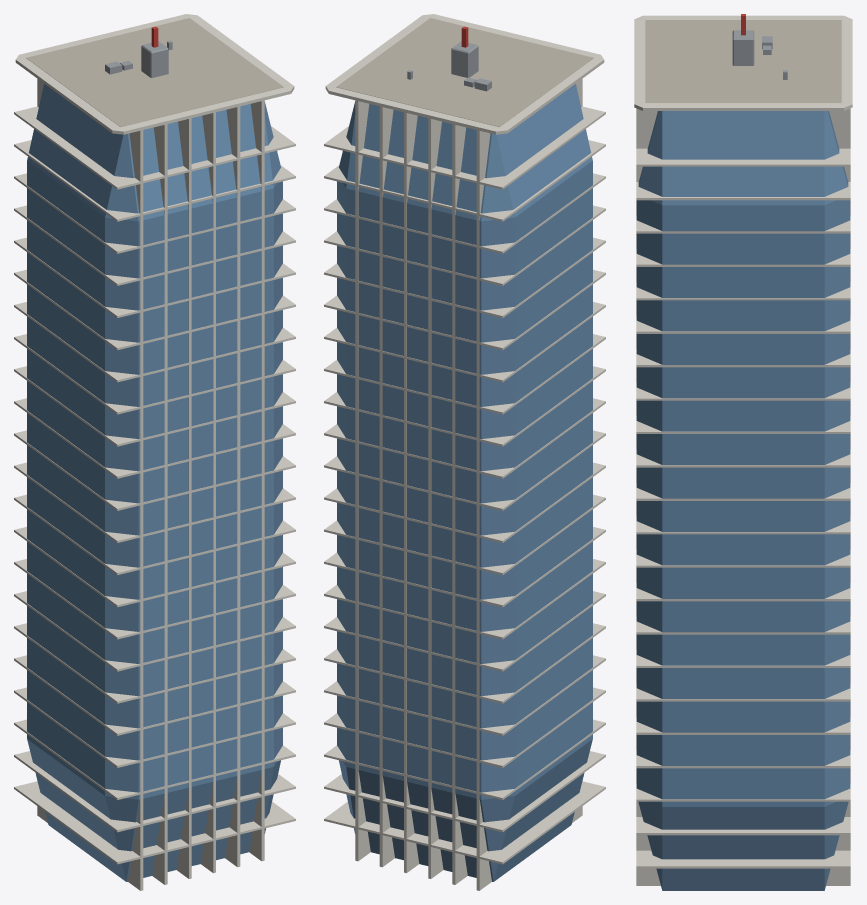
Rendered from tower_grid_h90.glb.
3 views of the same model, side by side, from view 1: azimuth 30°, elevation 25°; view 2: azimuth 150°, elevation 25°; view 3: azimuth 270°, elevation 25° (orthographic). The views are drawn at different scales.
Visible parts, largest first — view 1: glasscore, gridroof, gridlip, mullv, mullv.001, mullv.004, mullv.005, mullv.002, mullh, mullv.003, mullh.021, mullh.001 (+20 smaller); view 2: glasscore, gridroof, gridlip, mullv, mullv.004, mullv.001, mullv.005, mullv.002, mullh, mullv.003, mullh.021, mullh.001 (+20 smaller); view 3: glasscore, gridroof, gridlip, mullv.005, mullh, mullh.021, mullh.001, mullh.020, mullh.008, mullh.015, mullh.003, mullh.010 (+15 smaller).
Part boxes in pixels (x1,y1,x2,y2): glasscore: [27, 83, 282, 881]; gridroof: [26, 18, 283, 126]; gridlip: [15, 14, 294, 134]; mullv: [37, 79, 143, 890]; mullv.001: [152, 124, 167, 884]; mullv.004: [225, 106, 240, 867]; mullv.005: [249, 100, 264, 861]; mullv.002: [176, 118, 191, 878]; mullh: [14, 781, 295, 864]; mullv.003: [200, 112, 215, 873]; mullh.021: [14, 106, 295, 189]; mullh.001: [14, 751, 295, 832]; glasscore: [337, 83, 592, 881]; gridroof: [336, 18, 593, 126]; gridlip: [325, 14, 604, 134]; mullv: [476, 79, 582, 890]; mullv.004: [379, 106, 394, 867]; mullv.001: [452, 124, 467, 884]; mullv.005: [355, 100, 370, 861]; mullv.002: [428, 118, 443, 878]; mullh: [324, 781, 605, 864]; mullv.003: [404, 112, 419, 873]; mullh.021: [324, 106, 605, 189]; mullh.001: [324, 751, 605, 832]; glasscore: [636, 111, 850, 890]; gridroof: [645, 20, 841, 102]; gridlip: [634, 15, 852, 110]; mullv.005: [636, 108, 850, 885]; mullh: [636, 850, 850, 868]; mullh.021: [636, 148, 850, 166]; mullh.001: [636, 817, 850, 835]; mullh.020: [636, 182, 850, 200]; mullh.008: [636, 583, 850, 601]; mullh.015: [636, 349, 850, 367]; mullh.003: [636, 750, 850, 768]; mullh.010: [636, 516, 850, 534].
Bounding box in the file's own units: 22.5 × 95.7 × 22.5.
